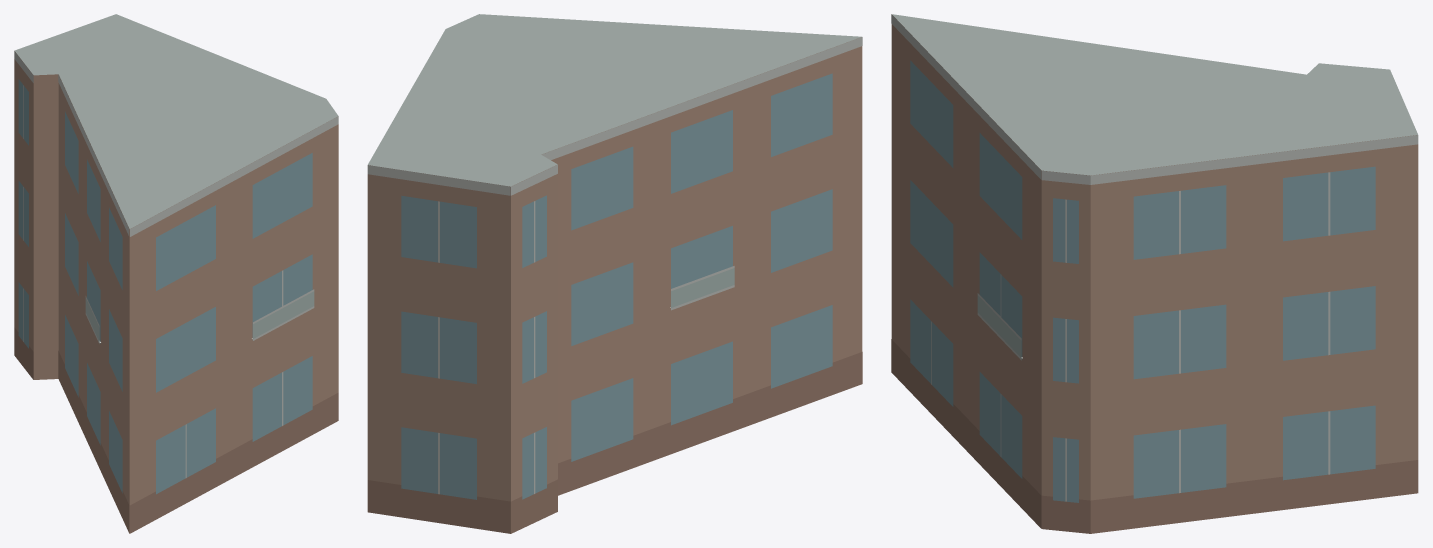
File: survey-upis-32952612.glb
The picture shows the model from 3 angles, left to right: view 1: azimuth 30°, elevation 25°; view 2: azimuth 150°, elevation 25°; view 3: azimuth 270°, elevation 25°; orthographic projection. The views are drawn at different scales.
Parts seen in each view (by area): view 1: survey-upis-32952612.tmp; view 2: survey-upis-32952612.tmp; view 3: survey-upis-32952612.tmp.
Boxes of the visible parts, x1,y1,x2,y2 form: survey-upis-32952612.tmp: (14,14,338,533); survey-upis-32952612.tmp: (367,14,862,533); survey-upis-32952612.tmp: (891,14,1418,533).
Size of the model in its own units: 8.85 by 9.15 by 12.2.
